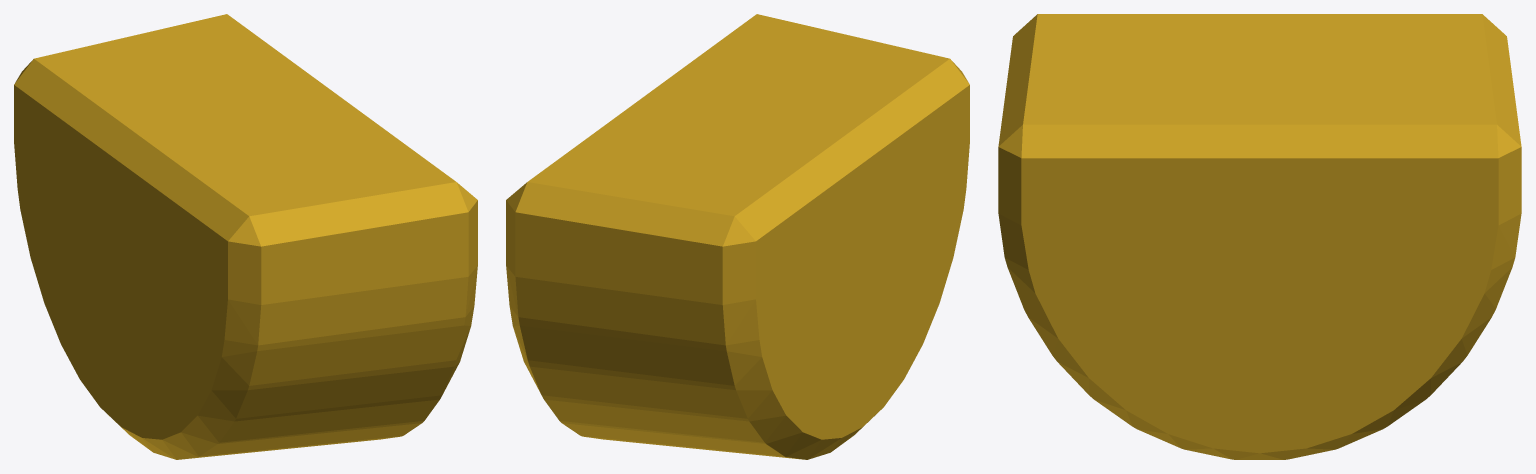
The model's file is VIS_HandInterfaceIndex.dae.
3 renders of one model, left to right at view 1: azimuth 30°, elevation 25°; view 2: azimuth 150°, elevation 25°; view 3: azimuth 270°, elevation 25°, orthographic. The views are drawn at different scales.
Parts seen in each view (by area): view 1: VIS_HandInterfaceIndex; view 2: VIS_HandInterfaceIndex; view 3: VIS_HandInterfaceIndex.
Part boxes in pixels (<box>): VIS_HandInterfaceIndex: <box>14,14,477,459</box>; VIS_HandInterfaceIndex: <box>506,14,969,459</box>; VIS_HandInterfaceIndex: <box>998,14,1521,459</box>.
Size of the model in its own units: 0.016 by 0.0291 by 0.0212.
